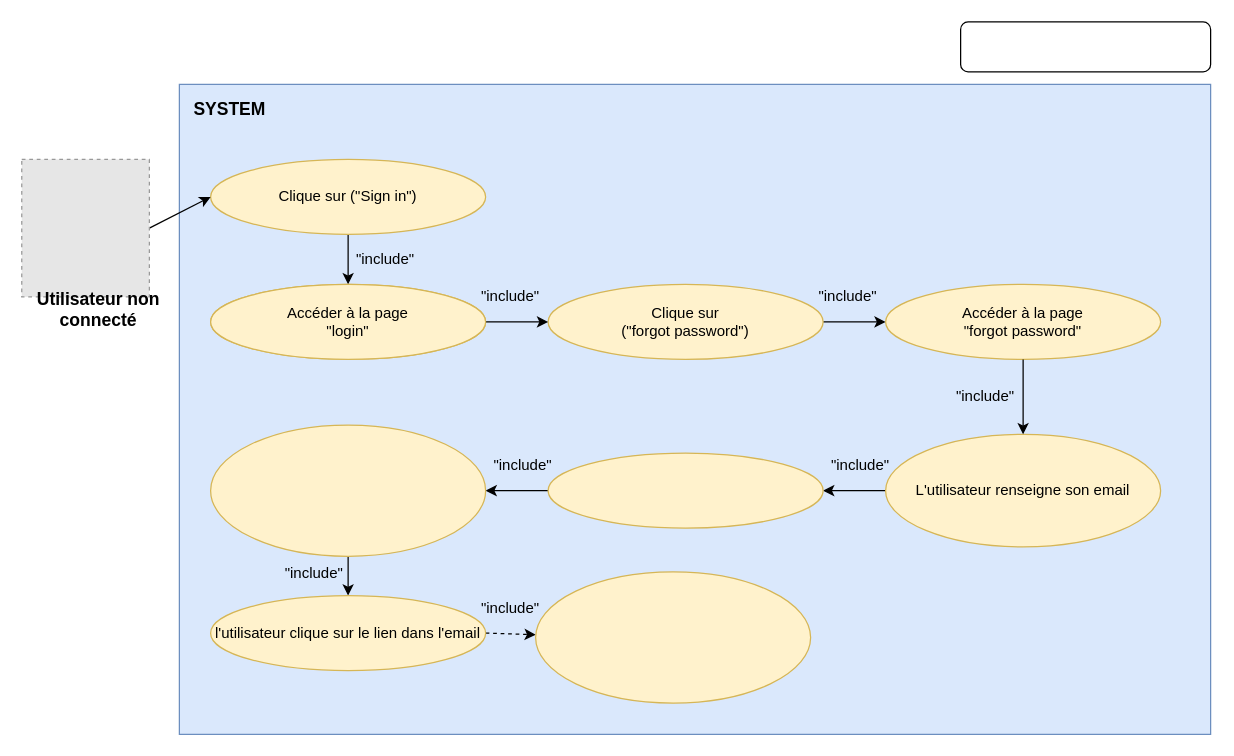
This 1234x756 diagram has some shape labels left out. Grey dashed boxes stand in for pictures. Here are the shapes that lost their labels. From the top down, the box of each, then its label:
(959, 21, 1211, 72): Mot de passe oublié
(209, 424, 486, 556): le système envoie un e-mail avec un token de reinitialisation de mot de pâsse
(547, 452, 823, 528): L'utilisateur clique sur ("Ask for reset password")
(534, 571, 811, 703): le système envoie un e-mail avec le nouveau mot de passe de l'utilisateur
